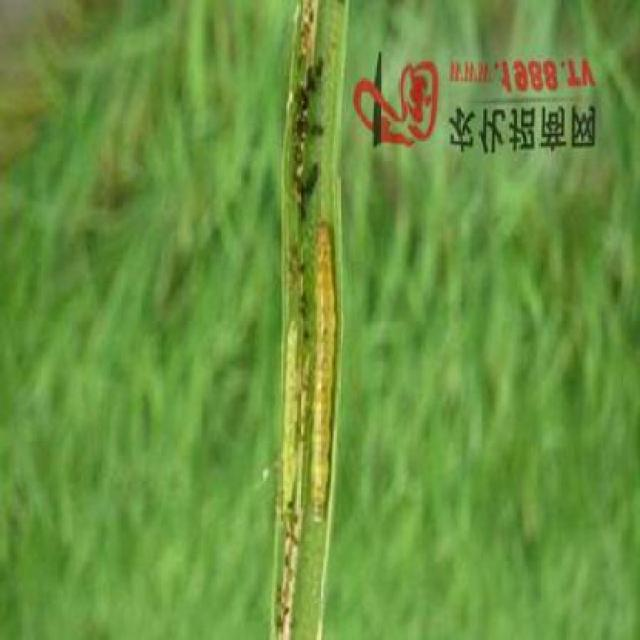leaf-folder: (282, 212, 341, 525)
